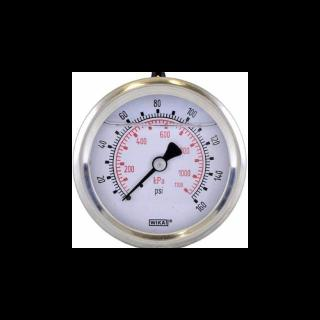gauge: (71, 72, 248, 248), (117, 187, 135, 206), (186, 193, 204, 211), (152, 156, 168, 172), (120, 194, 128, 202)
